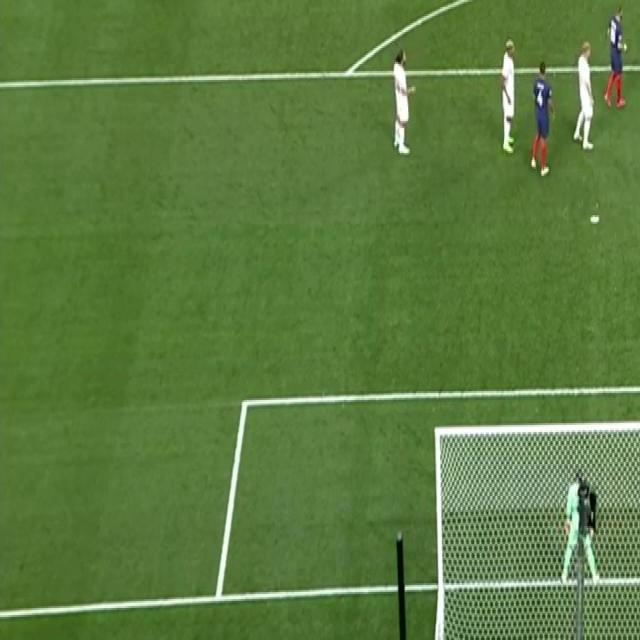player-white: (560, 464, 604, 590), (529, 58, 557, 179), (389, 45, 418, 159), (571, 39, 596, 154), (602, 2, 628, 111), (498, 35, 517, 157)
